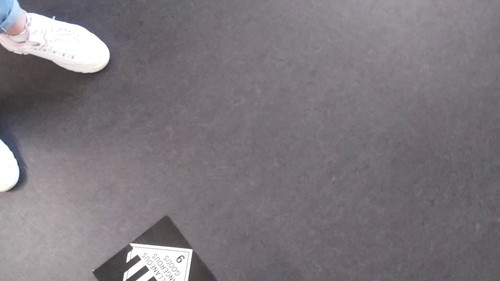misgoods: (115, 236, 195, 281)
